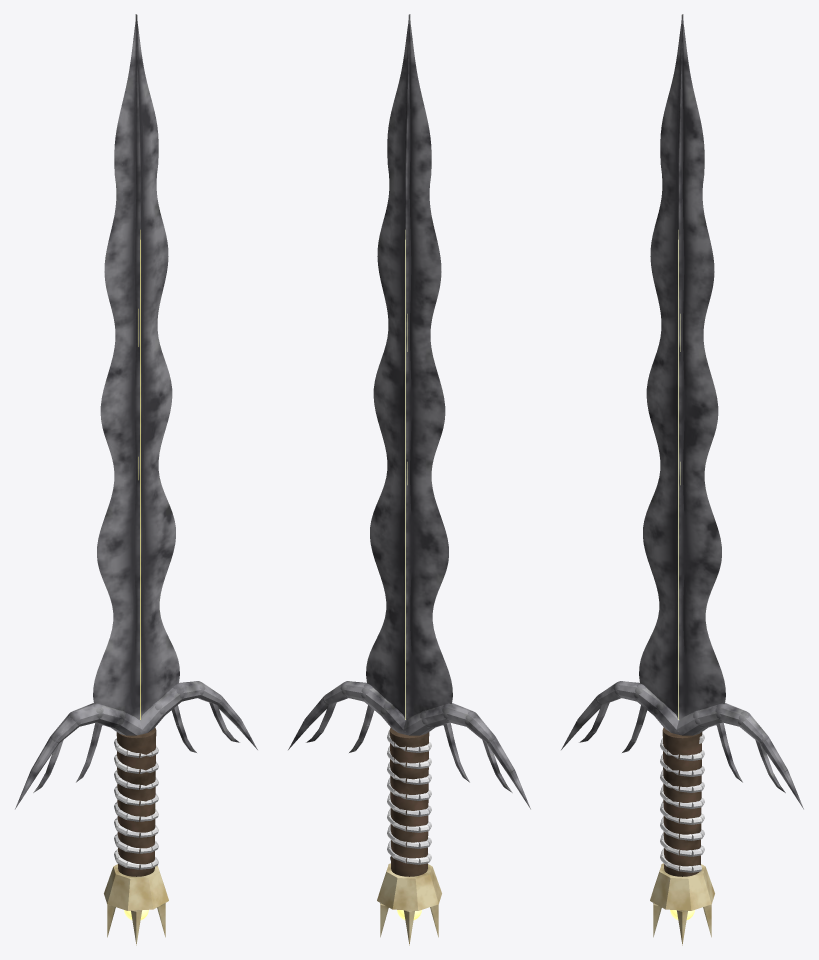
The picture shows the model from 3 angles, left to right: view 1: azimuth 30°, elevation 25°; view 2: azimuth 150°, elevation 25°; view 3: azimuth 330°, elevation 25°; orthographic projection.
Parts seen in each view (by area): view 1: metal_dark, leather_dark, metal_gold, metal_silver, glow_edge; view 2: metal_dark, leather_dark, metal_gold, metal_silver, glow_edge; view 3: metal_dark, leather_dark, metal_gold, metal_silver, glow_edge.
Boxes of the visible parts, box(x1,y1,x2,y2) form: metal_dark: box(15, 14, 257, 809); leather_dark: box(116, 727, 156, 876); metal_gold: box(104, 864, 168, 945); metal_silver: box(114, 738, 158, 869); glow_edge: box(124, 230, 148, 920); metal_dark: box(288, 14, 530, 809); leather_dark: box(389, 727, 429, 876); metal_gold: box(377, 863, 441, 945); metal_silver: box(387, 730, 431, 864); glow_edge: box(397, 230, 421, 920); metal_dark: box(561, 14, 803, 809); leather_dark: box(662, 727, 702, 876); metal_gold: box(650, 863, 714, 945); metal_silver: box(660, 734, 704, 872); glow_edge: box(670, 230, 694, 920).
Bounding box in the file's own units: 0.2 × 0.718 × 0.048.
5 materials, 4 textured.
